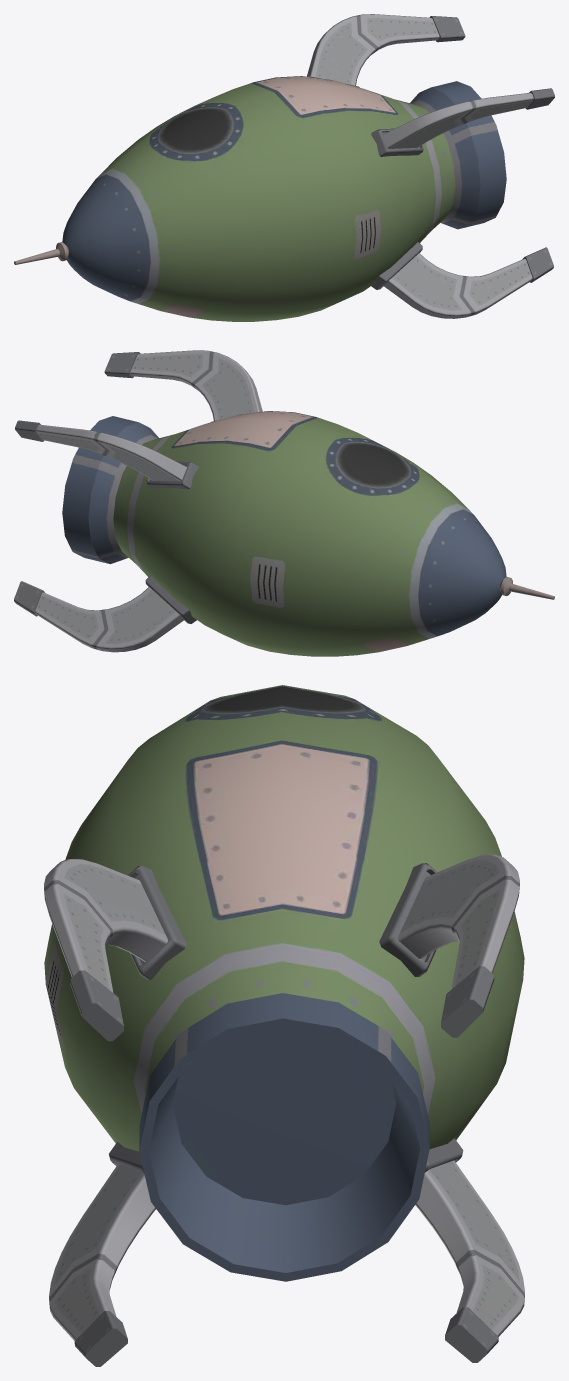
Rendered from spaceship.glb.
3 renders of one model, top to bottom at view 1: azimuth 30°, elevation 25°; view 2: azimuth 150°, elevation 25°; view 3: azimuth 270°, elevation 25°, orthographic. The views are drawn at different scales.
Parts seen in each view (by area): view 1: GreenShip_Body, GreenShip_LandingGearItem1; view 2: GreenShip_Body, GreenShip_LandingGearItem1; view 3: GreenShip_Body, GreenShip_LandingGearItem1.
Part boxes in pixels (x1=…): GreenShip_Body: x1=14, y1=76, x2=506, y2=321; GreenShip_LandingGearItem1: x1=307, y1=14, x2=554, y2=318; GreenShip_Body: x1=62, y1=411, x2=554, y2=656; GreenShip_LandingGearItem1: x1=14, y1=350, x2=262, y2=652; GreenShip_Body: x1=44, y1=685, x2=524, y2=1281; GreenShip_LandingGearItem1: x1=44, y1=854, x2=524, y2=1366.
Bounding box in the file's own units: 26.76 × 11.39 × 11.39.
Materials: 2 (2 with a texture image).
